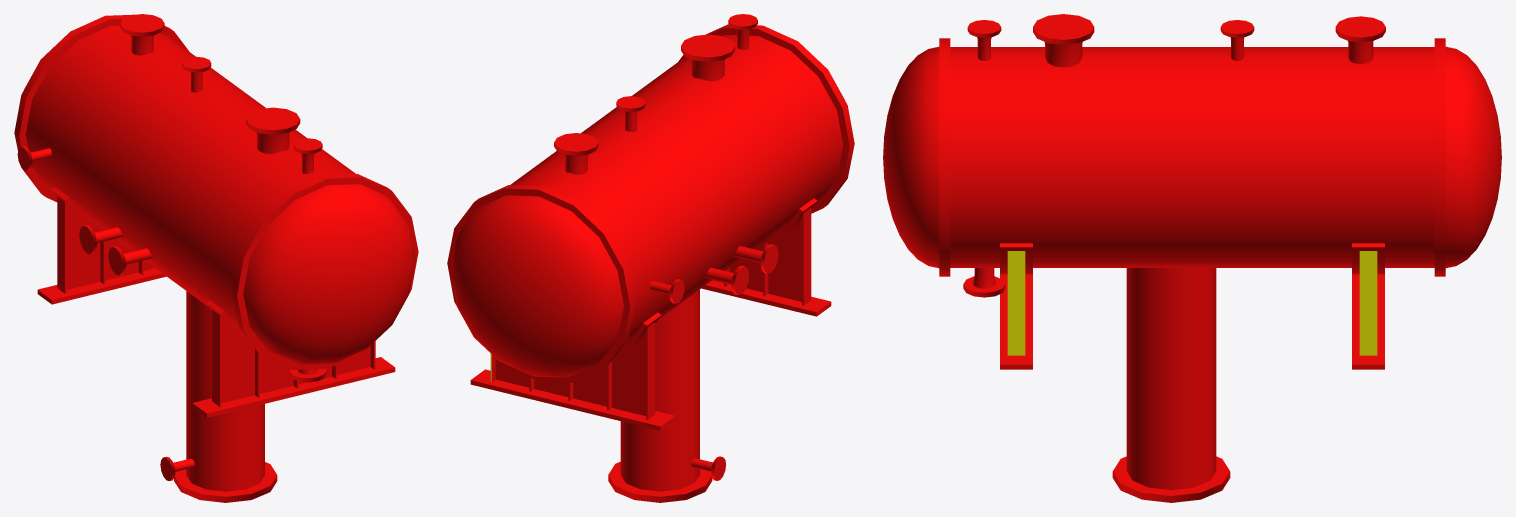
File: V_221_Drum.FBX
3 renders of one model, left to right at view 1: azimuth 30°, elevation 25°; view 2: azimuth 150°, elevation 25°; view 3: azimuth 270°, elevation 25°, orthographic. The views are drawn at different scales.
Visible parts, largest first — view 1: V_221_Drum; view 2: V_221_Drum; view 3: V_221_Drum.
Boxes of the visible parts, x1,y1,x2,y2 form: V_221_Drum: [14, 14, 418, 502]; V_221_Drum: [447, 14, 854, 502]; V_221_Drum: [883, 14, 1501, 502].
Bounding box in the file's own units: 1219 × 2262 × 2812.
